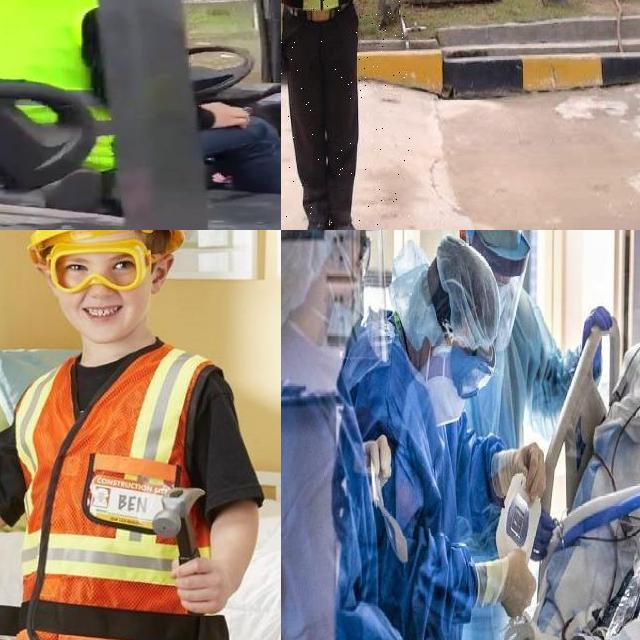BOOTS: (300, 214, 333, 230), (331, 214, 360, 230)
GLASS: (48, 239, 151, 293)
HELMET: (24, 230, 189, 268)
MASK: (422, 372, 468, 430)
VEST: (12, 348, 220, 640)
